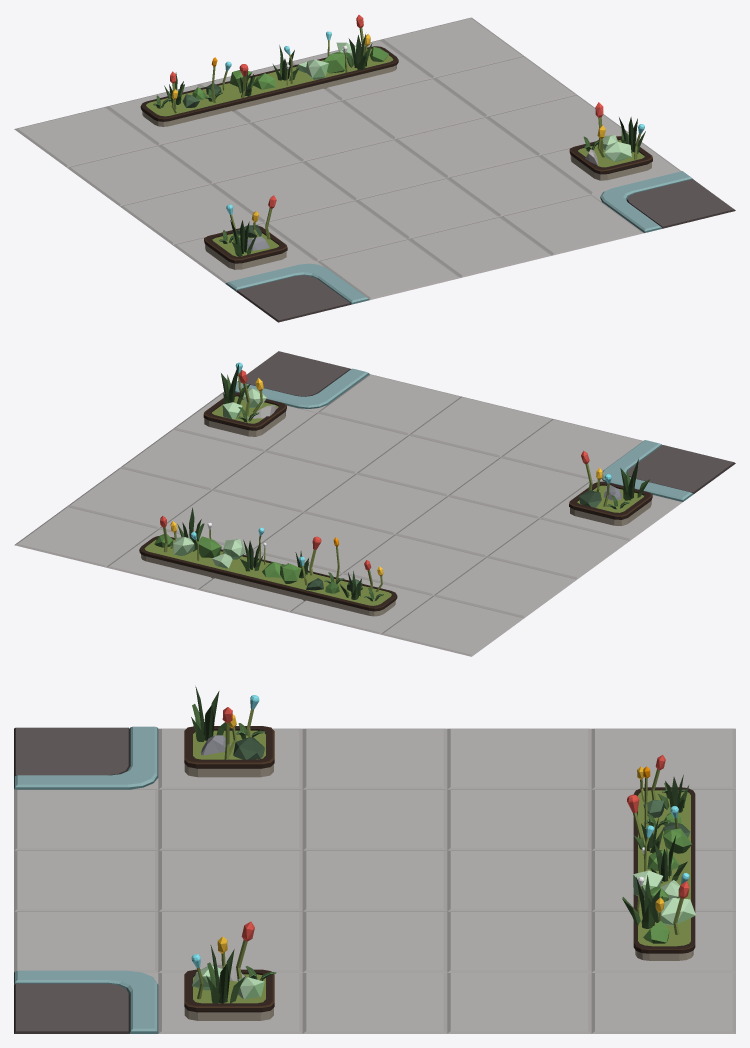
File: EmptyFork_B.glb
3 renders of one model, top to bottom at view 1: azimuth 30°, elevation 25°; view 2: azimuth 150°, elevation 25°; view 3: azimuth 270°, elevation 25°, orthographic. The views are drawn at different scales.
Visible parts, largest first — view 1: EmptyFork_B, Cube.034, Cube.226, Cube.225, Grass_03.528; view 2: EmptyFork_B, Cube.034, Cube.226, Cube.225; view 3: EmptyFork_B, Cube.034, Cube.226, Cube.225, Grass_03.529, Grass_03.530, Grass_03.528, Tree_03.1369, Grass_03.527, Flower03.1617, Tree_03.1378.
Part boxes in pixels (left/top/right/bottom): EmptyFork_B: left=14, top=17, right=735, bottom=322; Cube.034: left=140, top=46, right=398, bottom=126; Cube.226: left=204, top=225, right=287, bottom=269; Cube.225: left=569, top=136, right=652, bottom=180; Grass_03.528: left=342, top=34, right=372, bottom=69; EmptyFork_B: left=14, top=351, right=735, bottom=656; Cube.034: left=139, top=536, right=397, bottom=616; Cube.226: left=569, top=481, right=652, bottom=525; Cube.225: left=203, top=392, right=286, bottom=436; EmptyFork_B: left=14, top=726, right=735, bottom=1033; Cube.034: left=633, top=787, right=695, bottom=960; Cube.226: left=184, top=726, right=274, bottom=777; Cube.225: left=184, top=969, right=274, bottom=1020; Grass_03.529: left=206, top=945, right=245, bottom=1003; Grass_03.530: left=191, top=686, right=225, bottom=741; Grass_03.528: left=622, top=875, right=662, bottom=928; Tree_03.1369: left=657, top=898, right=695, bottom=925; Grass_03.527: left=650, top=835, right=687, bottom=883; Flower03.1617: left=217, top=921, right=254, bottom=984; Tree_03.1378: left=233, top=737, right=264, bottom=759.
Size of what is drawn, in the model's own units: 16 by 2.05 by 16.
1 material, 1 textured.
